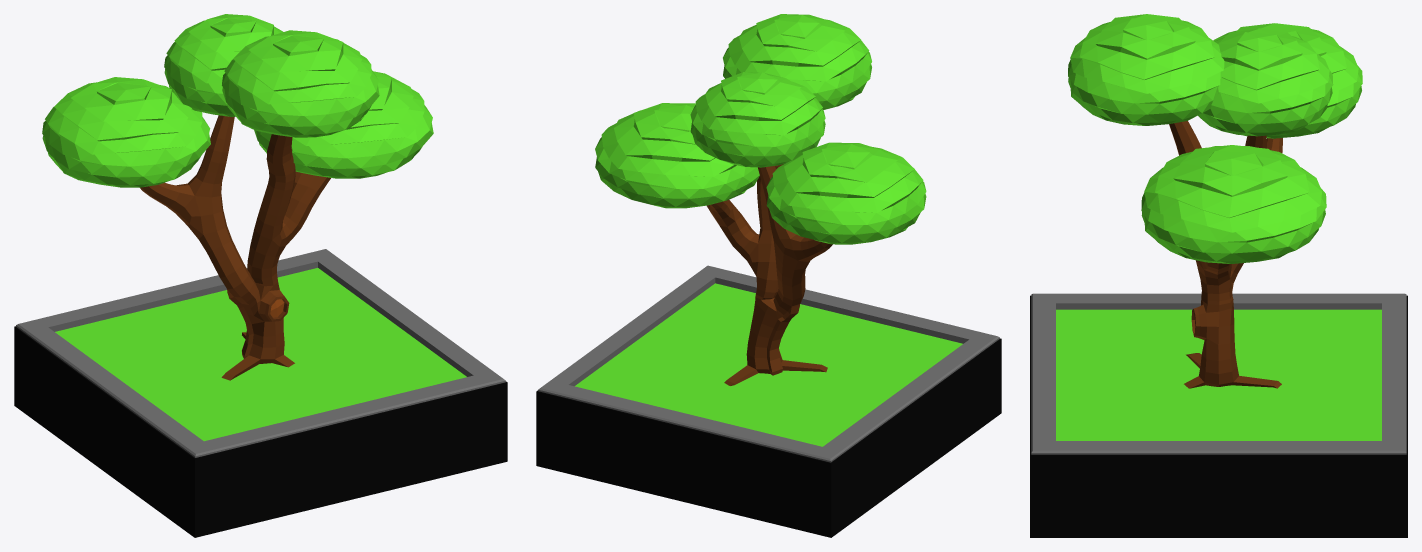
File: FloorTileTree.fbx
3 renders of one model, left to right at view 1: azimuth 30°, elevation 25°; view 2: azimuth 150°, elevation 25°; view 3: azimuth 270°, elevation 25°, orthographic. The views are drawn at different scales.
Visible parts, largest first — view 1: FloorTileTree; view 2: FloorTileTree; view 3: FloorTileTree.
Boxes of the visible parts, x1,y1,x2,y2 form: FloorTileTree: (14, 14, 507, 537); FloorTileTree: (536, 14, 1001, 537); FloorTileTree: (1030, 14, 1407, 537).
Bounding box in the file's own units: 110 × 127 × 100.
